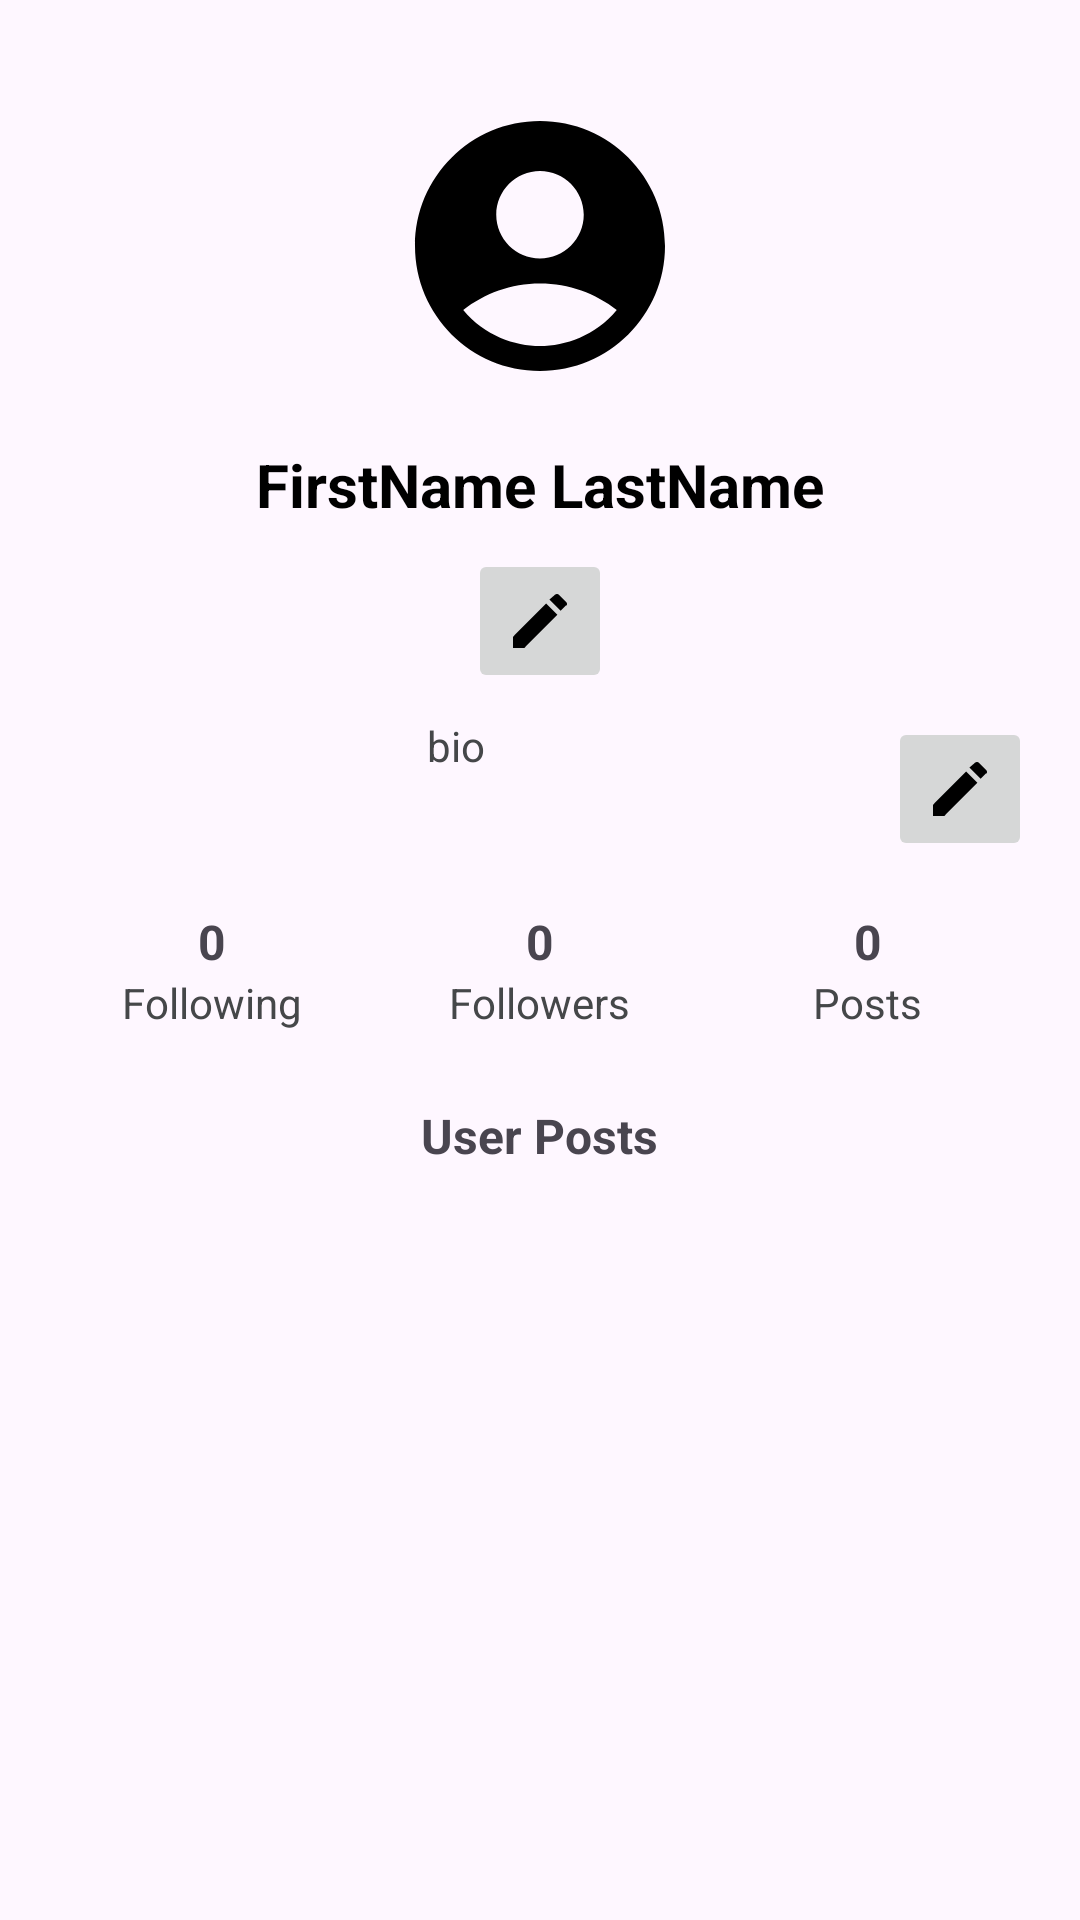

Icon bounding boxes for this 1080x1920 phone screenshot, format (x1, y1, x2, y2):
edit bio button: (900, 735, 1020, 843)
edit name button: (480, 567, 600, 675)
Profile picture: (415, 121, 665, 371)
